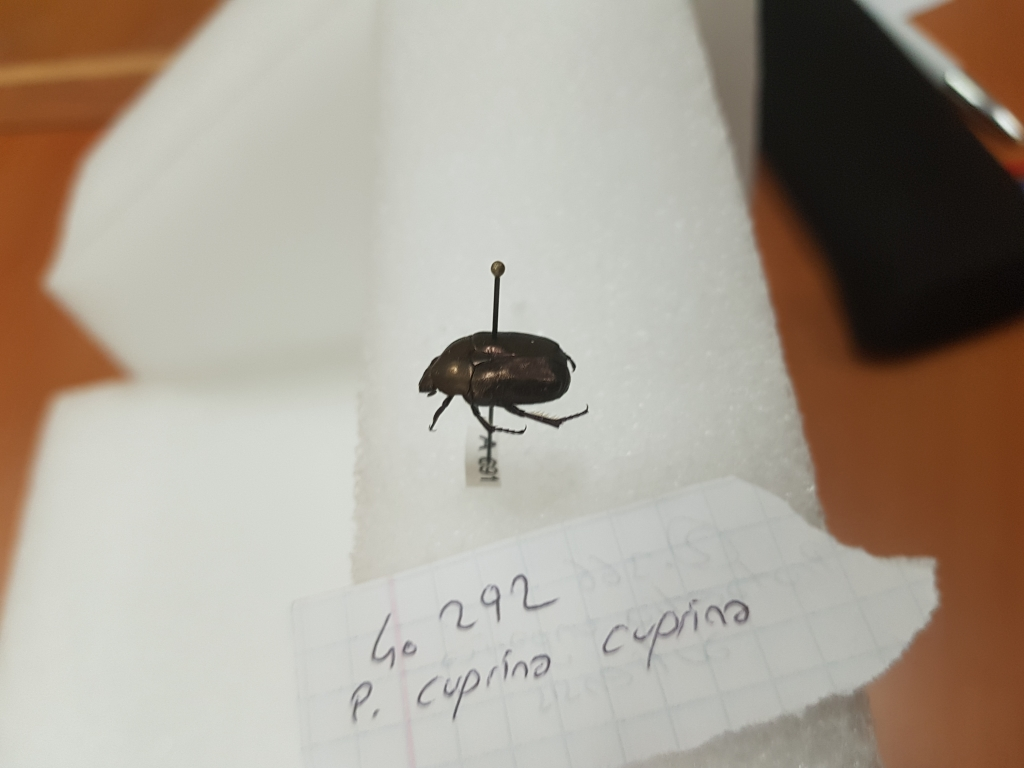Protaetia_cuprina_cuprina: (412, 328, 593, 446)
